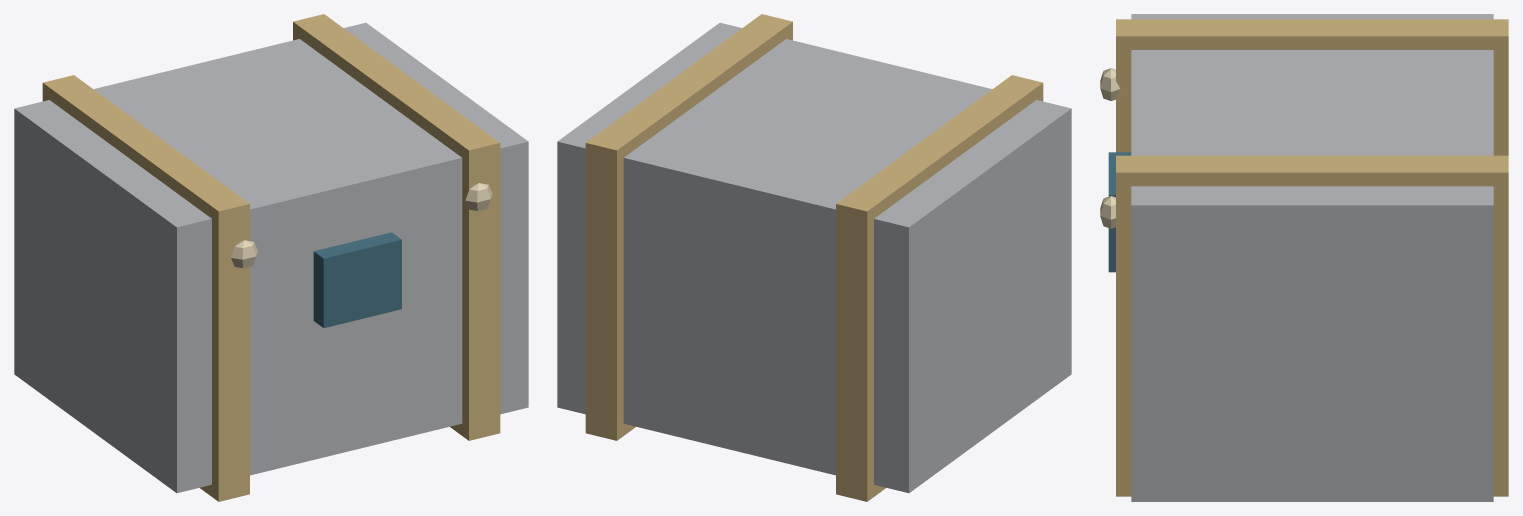
Rendered from marine-loot-1.glb.
3 renders of one model, left to right at view 1: azimuth 30°, elevation 25°; view 2: azimuth 150°, elevation 25°; view 3: azimuth 270°, elevation 25°, orthographic. The views are drawn at different scales.
Visible parts, largest first — view 1: marine-loot-1; view 2: marine-loot-1; view 3: marine-loot-1.
Part boxes in pixels (x1,y1,x2,y2): marine-loot-1: (14, 14, 528, 501); marine-loot-1: (557, 14, 1071, 501); marine-loot-1: (1100, 14, 1508, 501).
Size of the model in its own units: 0.9 by 0.71 by 0.8117.
